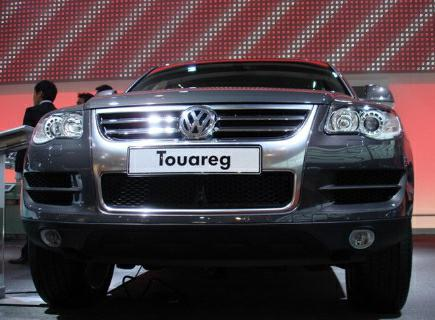大众-途锐: (18, 56, 416, 306)
